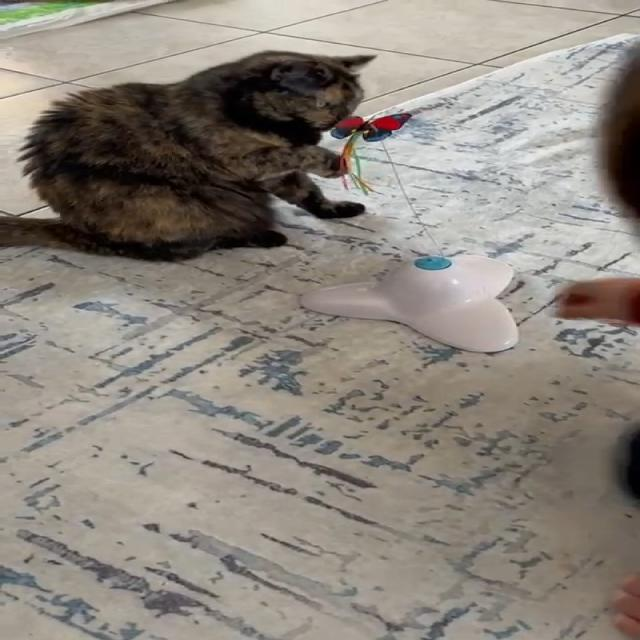authorized: (14, 49, 378, 263)
